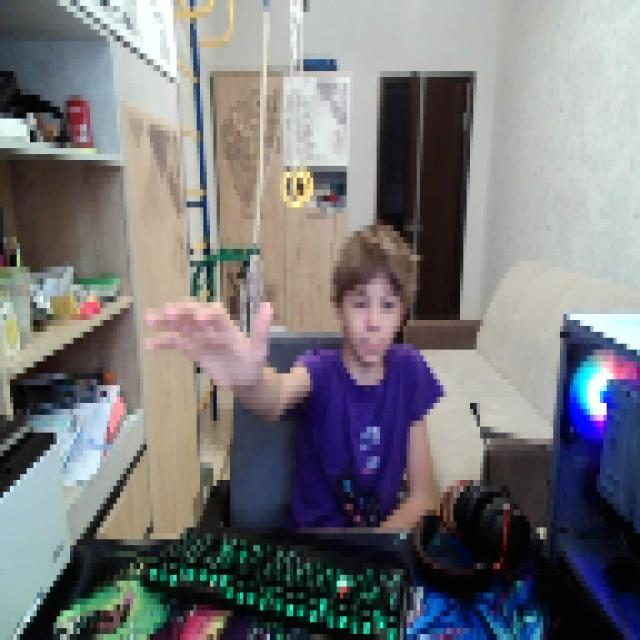hand: (143, 279, 270, 385)
